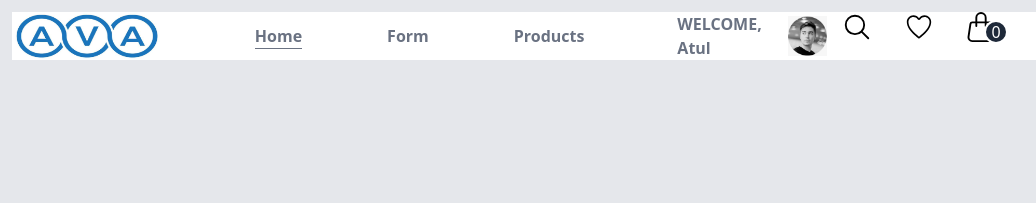
Test: Navbar Component › opens logout dropdown when profile clicked
Click the picture named "User Profile".
click(808, 36)  # box [788, 16, 827, 56]
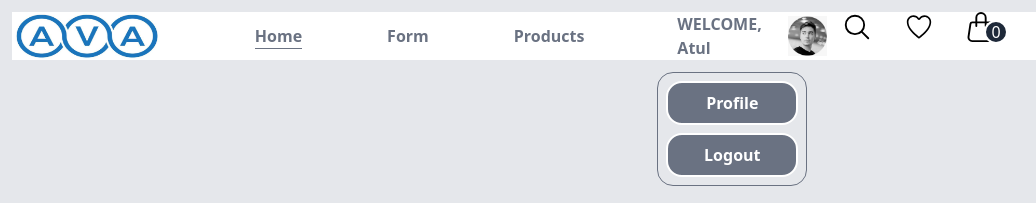
Result: the button "Logout" is shown at [666, 133, 798, 177]
